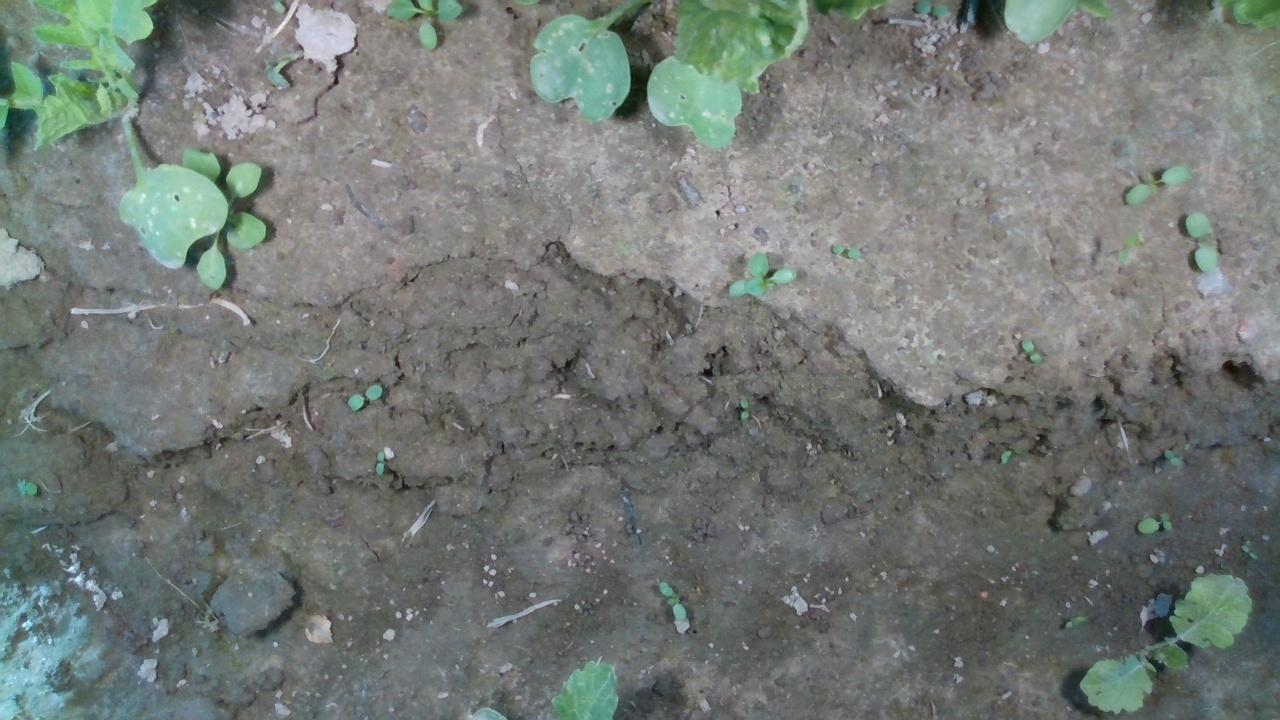weed: (1120, 162, 1192, 205), (1182, 207, 1219, 274), (657, 579, 687, 625), (343, 381, 382, 414), (1132, 511, 1174, 534), (1019, 332, 1042, 367), (829, 242, 863, 260), (1162, 444, 1185, 470), (734, 397, 750, 426), (1062, 614, 1087, 630), (1238, 541, 1258, 560), (373, 448, 385, 476)
